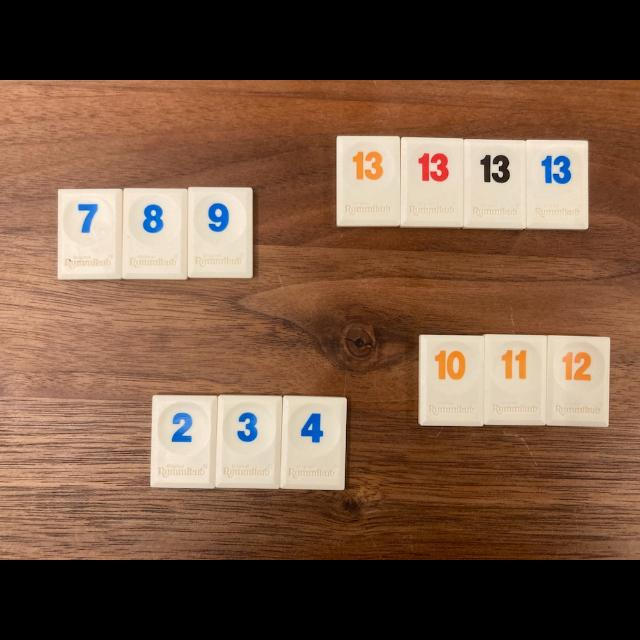black_13: (464, 140, 525, 229)
blue_13: (526, 140, 589, 229)
blue_2: (150, 395, 218, 488)
blue_3: (215, 395, 282, 489)
blue_4: (280, 396, 346, 490)
blue_7: (58, 189, 122, 279)
blue_8: (122, 189, 188, 279)
blue_9: (189, 188, 252, 278)
orange_10: (419, 335, 484, 426)
orange_11: (484, 335, 546, 425)
orange_12: (546, 336, 610, 426)
orange_13: (336, 136, 400, 226)
red_13: (400, 138, 464, 228)
